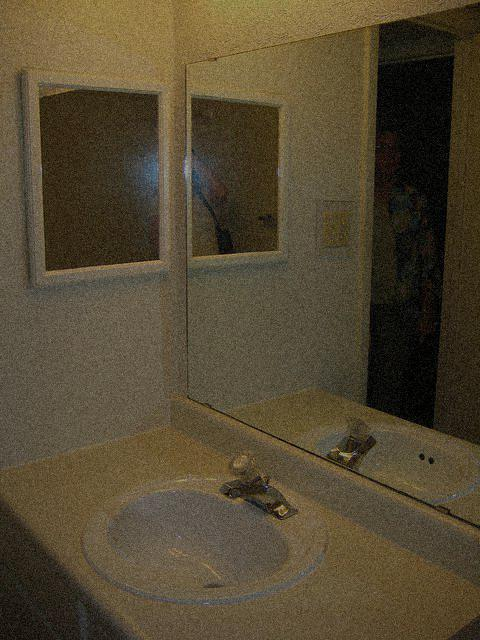Lavamanos: (85, 453, 344, 618), (294, 414, 479, 513)
